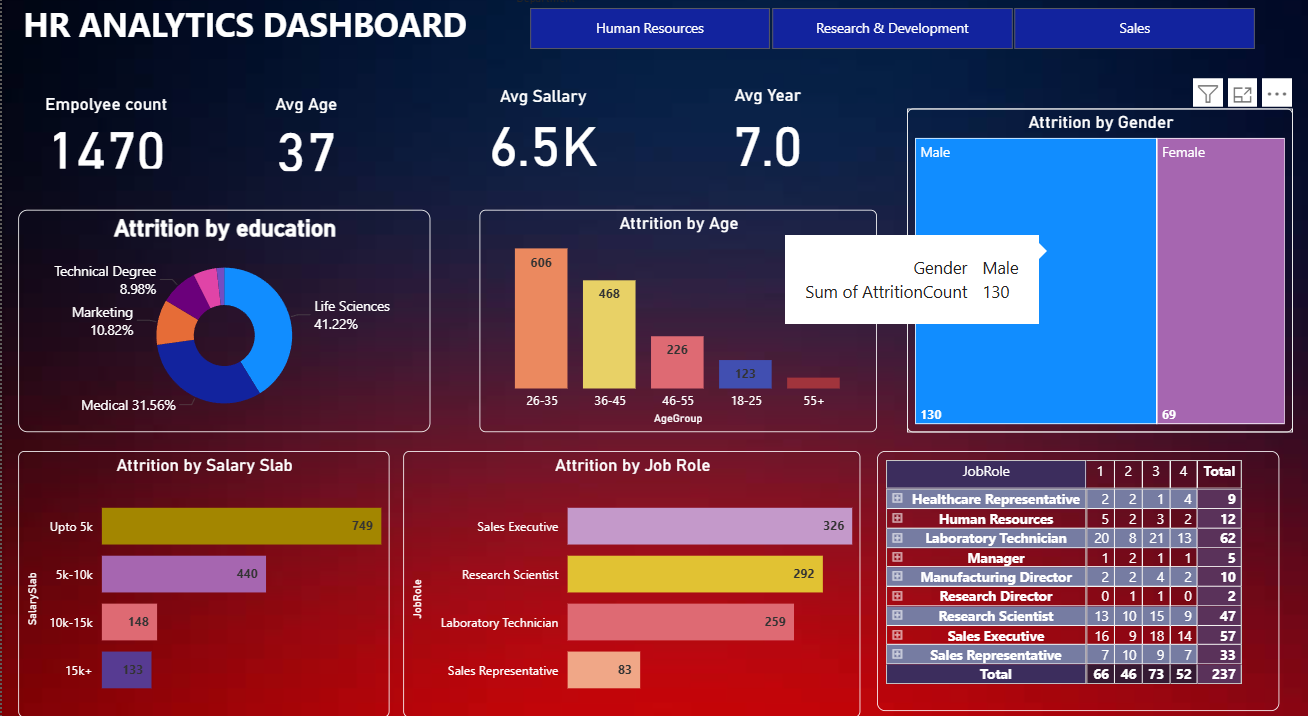

The dashboard page shown, as its layout file describes it:
{"tool":"powerbi","page":{"name":"Page 1","canvas":[1280,720],"ordinal":0},"visuals":[{"type":"card","title":"Empolyee count","fields":{"Values":["CountNonNull(Sheet1.EMPid)"]},"box":[15.9,105.2,172.4,78.3],"z":0},{"type":"card","title":"Avg Age","fields":{"Values":["Avg(Sheet1.Age)"]},"box":[188.3,105.2,218.9,80.7],"z":1000},{"type":"card","title":"Avg Sallary","fields":{"Values":["Avg(Sheet1.MonthlyIncome)"]},"box":[419.4,97.8,220.1,84.4],"z":2000},{"type":"card","title":"Avg Year","fields":{"Values":["Avg(Sheet1.YearsAtCompany)"]},"box":[639.5,96.6,218.9,85.6],"z":3000},{"type":"donutChart","title":"Attrition by education","fields":{"Category":["Sheet1.EducationField"],"Y":["CountNonNull(Sheet1.AttritionCount)"]},"box":[15.9,218.9,403.5,217.7],"z":4000},{"type":"lineStackedColumnComboChart","title":"Attrition by Age","fields":{"Category":["Sheet1.AgeGroup"],"Y":["CountNonNull(Sheet1.AttritionCount)"]},"box":[467.1,218.9,388.9,217.7],"z":5000},{"type":"pivotTable","fields":{"Rows":["Sheet1.JobRole","Sheet1.Attrition"],"Columns":["Sheet1.JobSatisfaction"],"Values":["Sum(Sheet1.AttritionCount)"]},"box":[856,454.9,393.8,254.3],"z":6000},{"type":"barChart","title":"Attrition by Salary Slab","fields":{"Category":["Sheet1.SalarySlab"],"Y":["CountNonNull(Sheet1.AttritionCount)"]},"box":[15.9,454.9,363.2,260.5],"z":7000},{"type":"barChart","title":"Attrition by Job Role","fields":{"Category":["Sheet1.JobRole"],"Y":["CountNonNull(Sheet1.AttritionCount)"]},"box":[392.5,454.9,447.6,260.5],"z":8000},{"type":"treemap","title":"Attrition by Gender","fields":{"Group":["Sheet1.Gender"],"Values":["Sum(Sheet1.AttritionCount)"]},"box":[885.3,119.8,377.9,316.7],"z":10000},{"type":"slicer","fields":{"Values":["Sheet1.Department"]},"box":[490.4,0,759.4,68.5],"z":10002},{"type":"textbox","box":[15.9,11,489.1,57.5],"z":10003}]}

Visuals, with their boxes in screenshot pixels (x1, y1, x2, y2), scaled from the page's 1280x720 canvas onto the 1308x716 screenshot:
"Empolyee count" card: bbox(16, 105, 192, 182)
"Avg Age" card: bbox(192, 105, 416, 185)
"Avg Sallary" card: bbox(429, 97, 653, 181)
"Avg Year" card: bbox(653, 96, 877, 181)
"Attrition by education" donutChart: bbox(16, 218, 429, 434)
"Attrition by Age" lineStackedColumnComboChart: bbox(477, 218, 875, 434)
pivotTable - Sheet1.JobRole x Sheet1.Attrition: bbox(875, 452, 1277, 705)
"Attrition by Salary Slab" barChart: bbox(16, 452, 387, 711)
"Attrition by Job Role" barChart: bbox(401, 452, 858, 711)
"Attrition by Gender" treemap: bbox(905, 119, 1291, 434)
slicer - Sheet1.Department: bbox(501, 0, 1277, 68)
textbox: bbox(16, 11, 516, 68)
